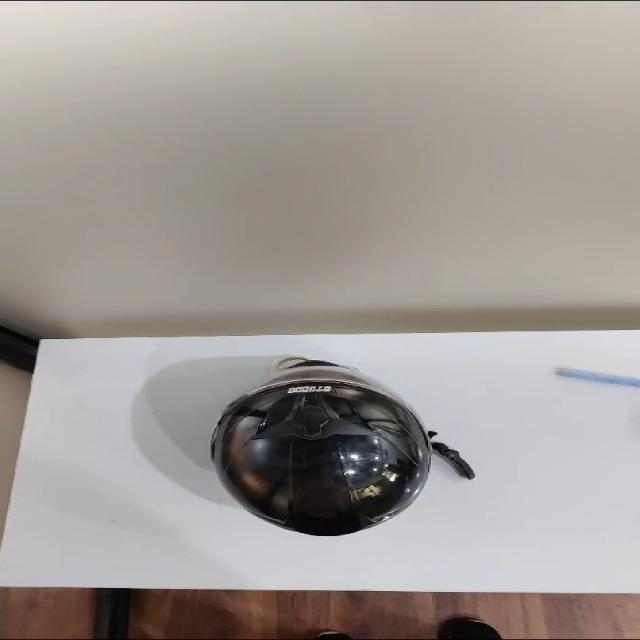helmet: (211, 357, 473, 535)
